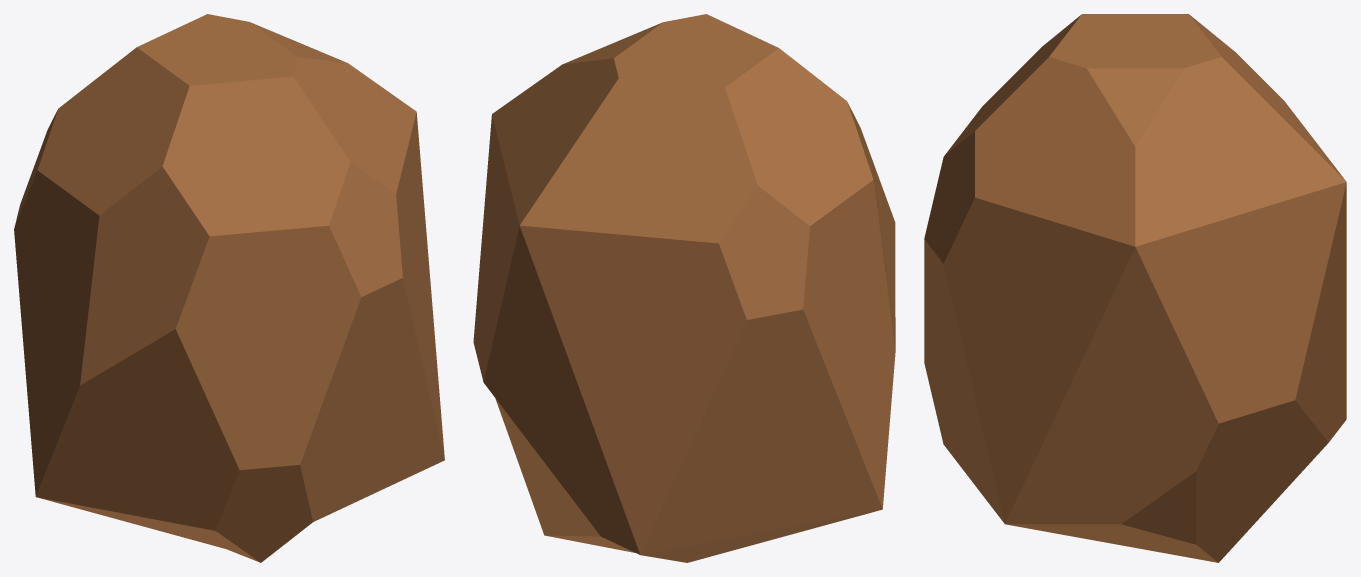
The model's file is Rock1.fbx.
The picture shows the model from 3 angles, left to right: view 1: azimuth 30°, elevation 25°; view 2: azimuth 150°, elevation 25°; view 3: azimuth 270°, elevation 25°; orthographic projection. The views are drawn at different scales.
Parts seen in each view (by area): view 1: Rock1; view 2: Rock1; view 3: Rock1.
Part boxes in pixels (left/top/right/bottom): Rock1: left=14, top=14, right=444, bottom=562; Rock1: left=473, top=14, right=895, bottom=562; Rock1: left=924, top=14, right=1346, bottom=562.
Size of the model in its own units: 47.34 by 59.13 by 45.02.
1 material, 1 textured.
